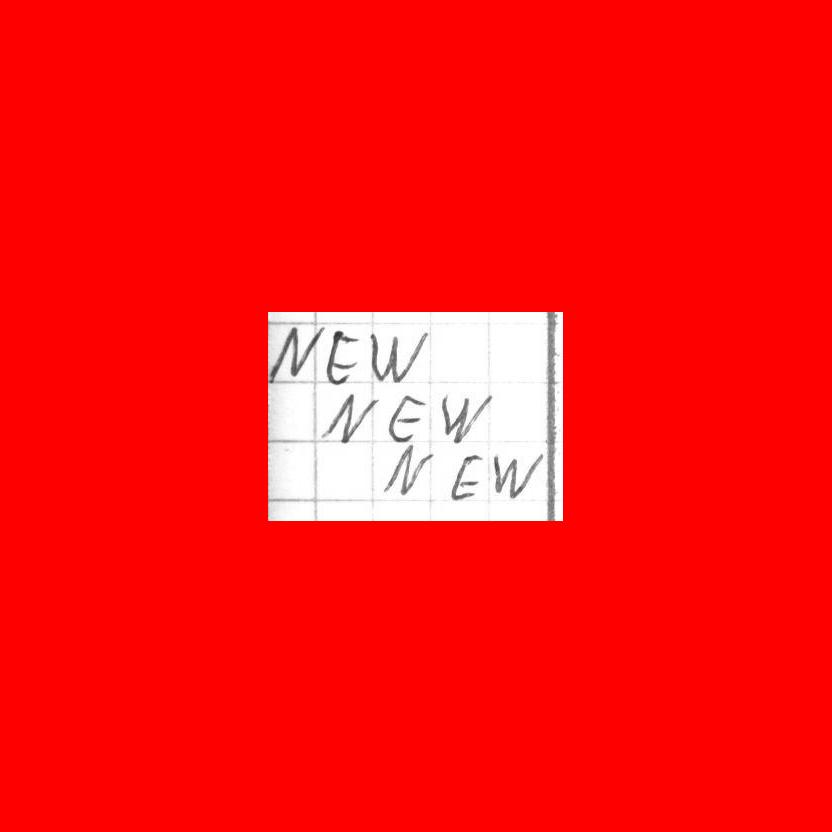Char: (262, 323, 321, 384), (317, 392, 379, 446), (439, 389, 494, 444), (373, 329, 429, 383), (381, 444, 432, 497), (493, 447, 543, 499), (384, 391, 428, 444), (321, 330, 363, 382), (448, 452, 484, 504)
